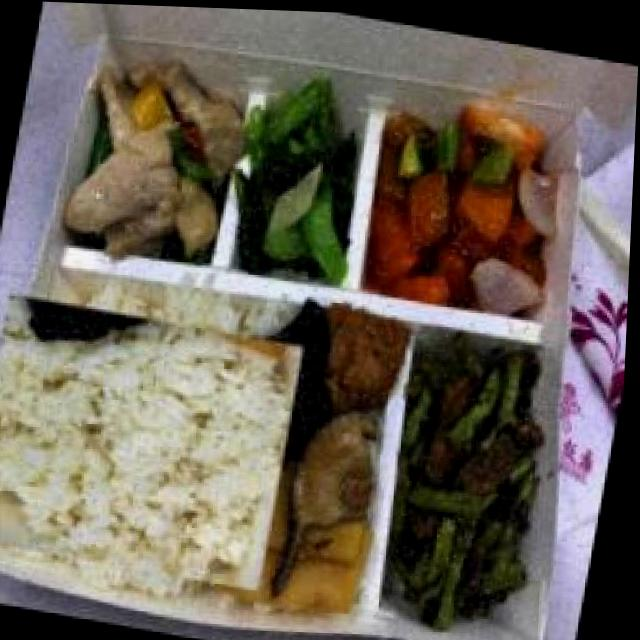rice: (0, 280, 298, 599)
